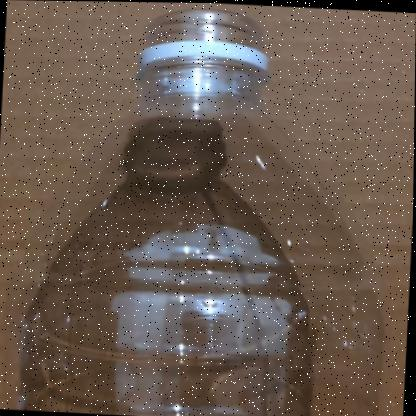open bottle: (1, 1, 415, 416)
